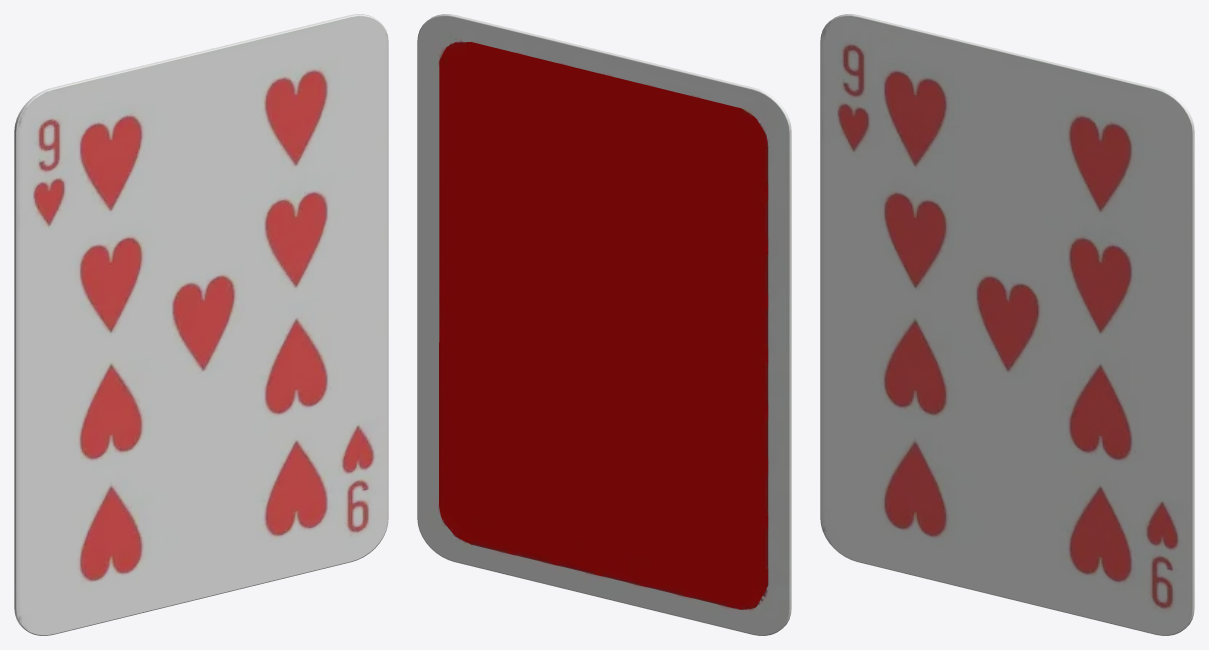
File: hearts_9-transformed.glb
3 views of the same model, side by side, from view 1: azimuth 30°, elevation 25°; view 2: azimuth 150°, elevation 25°; view 3: azimuth 330°, elevation 25° (orthographic).
Visible parts, largest first — view 1: defaultMaterial.039; view 2: defaultMaterial.039; view 3: defaultMaterial.039.
Part boxes in pixels (bbox=[...]): defaultMaterial.039: bbox=[14, 14, 388, 635]; defaultMaterial.039: bbox=[417, 14, 791, 635]; defaultMaterial.039: bbox=[820, 14, 1194, 635].
Size of the model in its own units: 0.1408 by 0.1972 by 0.00111.
Materials: 1 (1 with a texture image).
